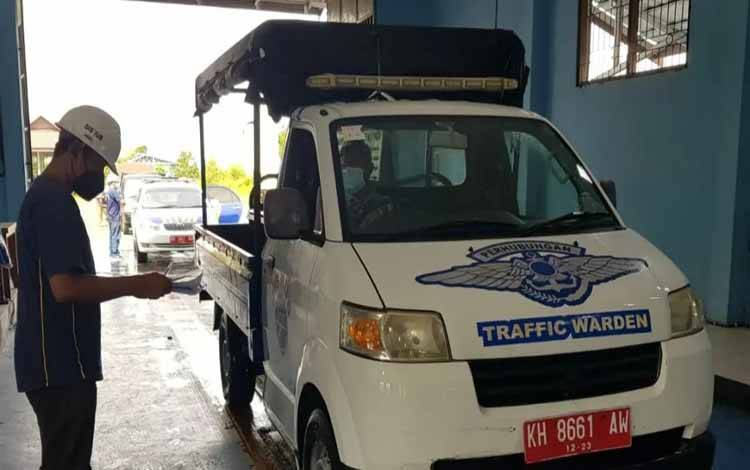plat nomor: (524, 407, 634, 464)
